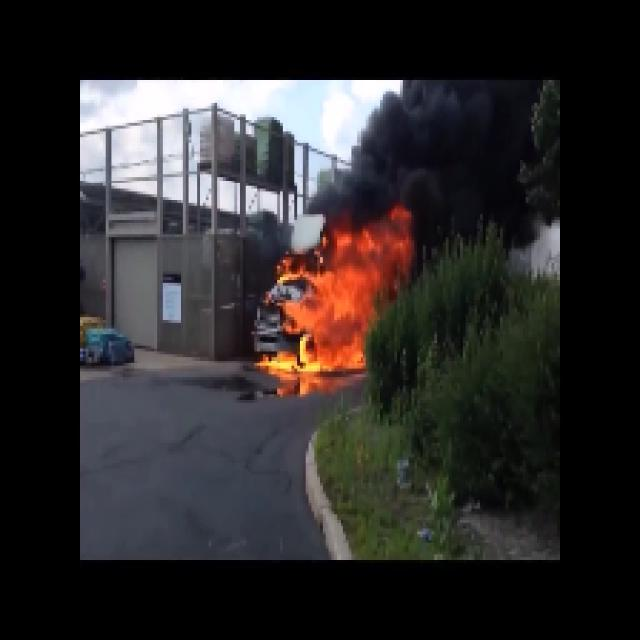fire: (252, 232, 388, 376)
smoke: (330, 82, 532, 208)
